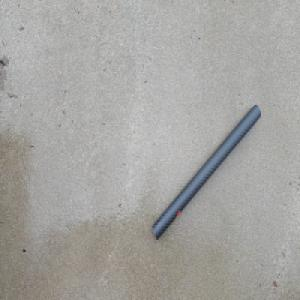LuggagePart: (151, 101, 261, 241)
